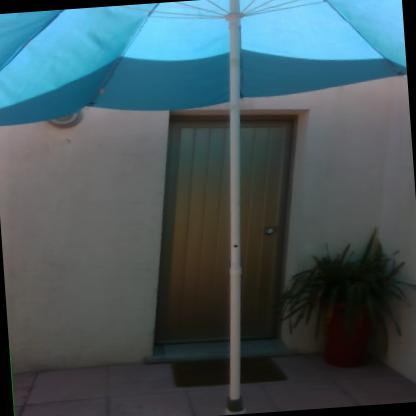closed: (146, 82, 306, 387)
